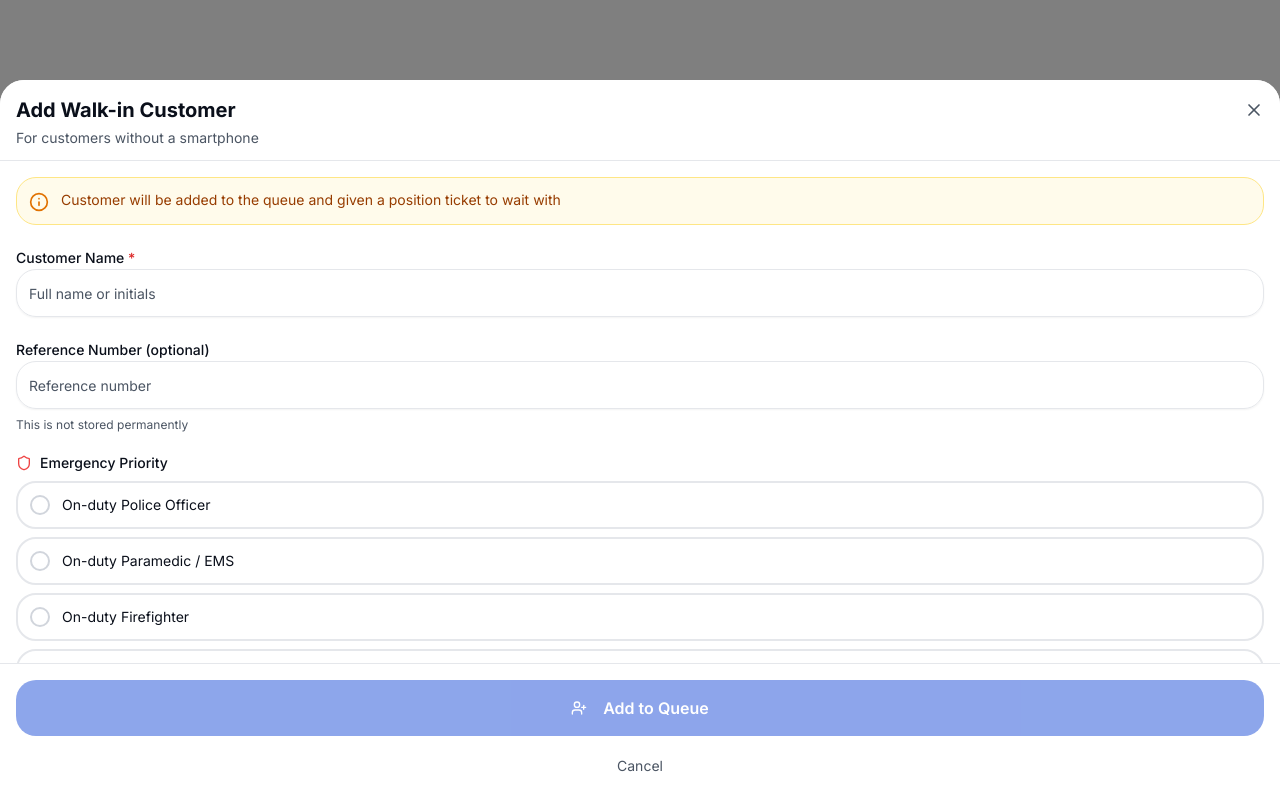
Scenario: AddWalkInModal › enables Add to Queue after typing a name
In the field with placeholder "Full name or initials": {"x": 640, "y": 293} [16,269,1264,317], type "Walk In Customer"
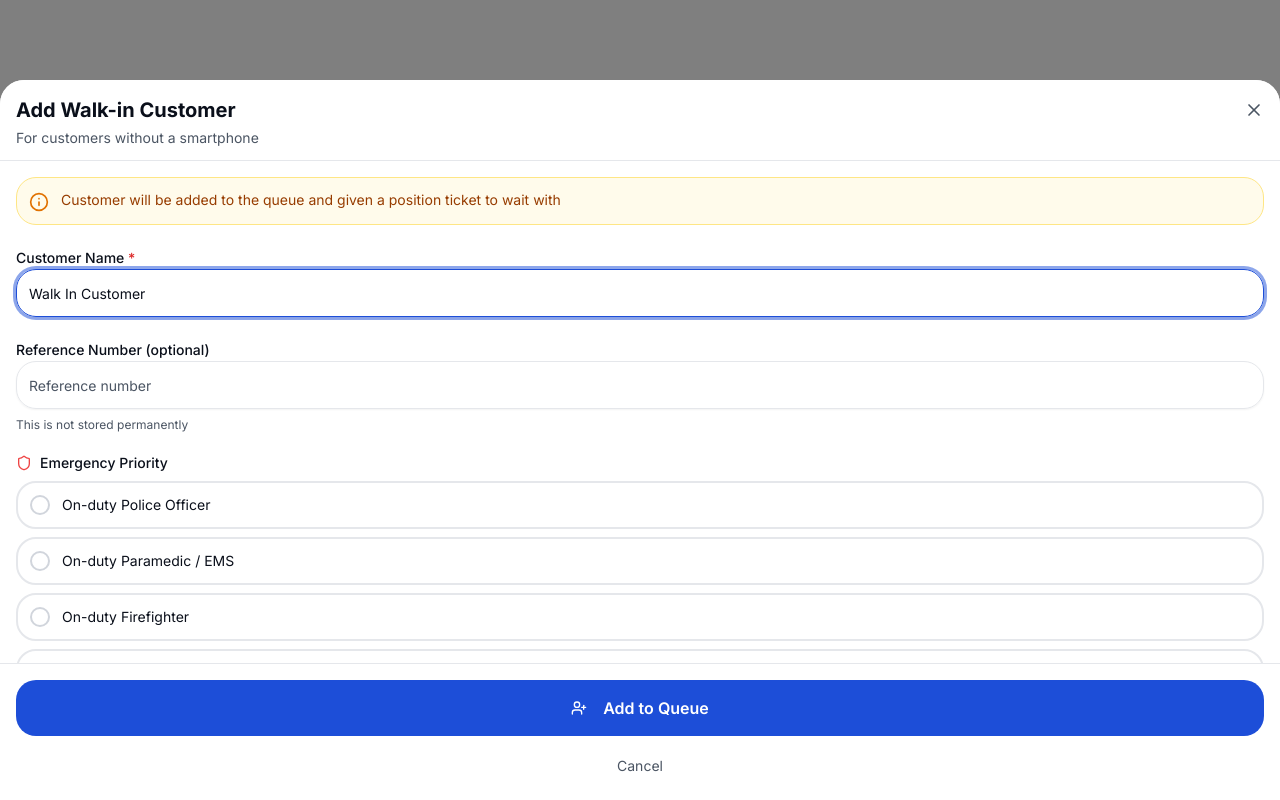
Now the button "Add to Queue" is enabled, box [16,680,1264,736]
